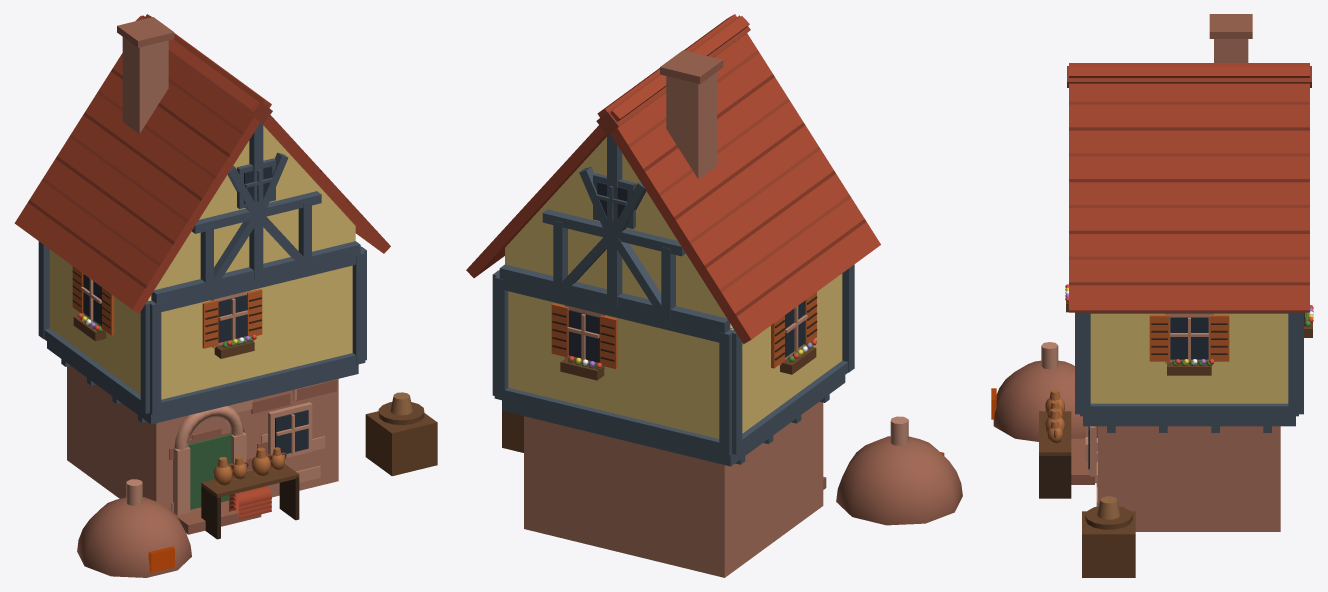
File: toepfer.glb
3 views of the same model, side by side, from view 1: azimuth 30°, elevation 25°; view 2: azimuth 150°, elevation 25°; view 3: azimuth 270°, elevation 25° (orthographic). The views are drawn at different scales.
Bounding box in the file's own units: 4.05 × 4.58 × 3.
